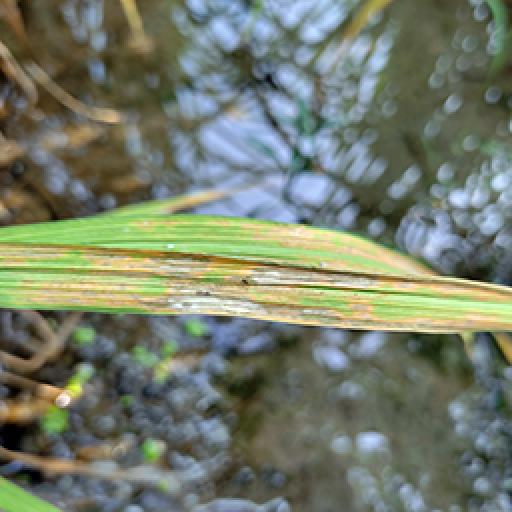Sheath Blight: (2, 210, 512, 360)
